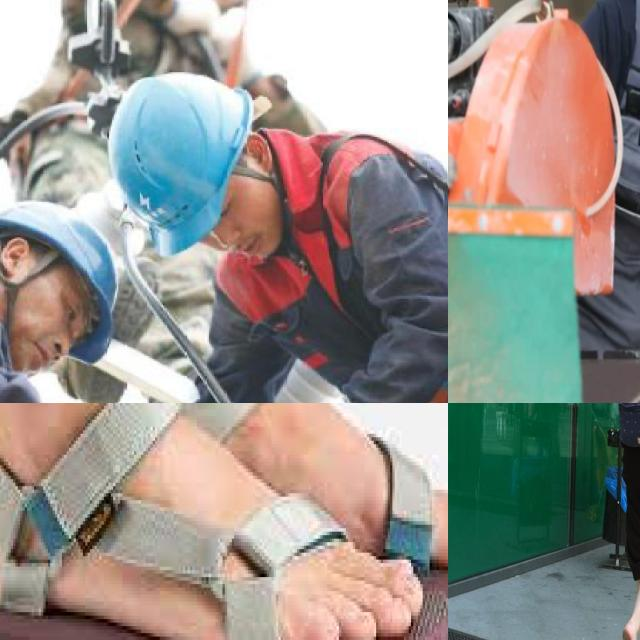Barefoots: (622, 624, 639, 640)
No_Ear-Protection: (0, 235, 36, 281), (243, 131, 276, 180)
Sandals: (0, 403, 448, 640)
face_nomask: (14, 291, 76, 374), (208, 201, 281, 261)
head_helmet: (110, 73, 252, 254), (0, 202, 117, 363)
